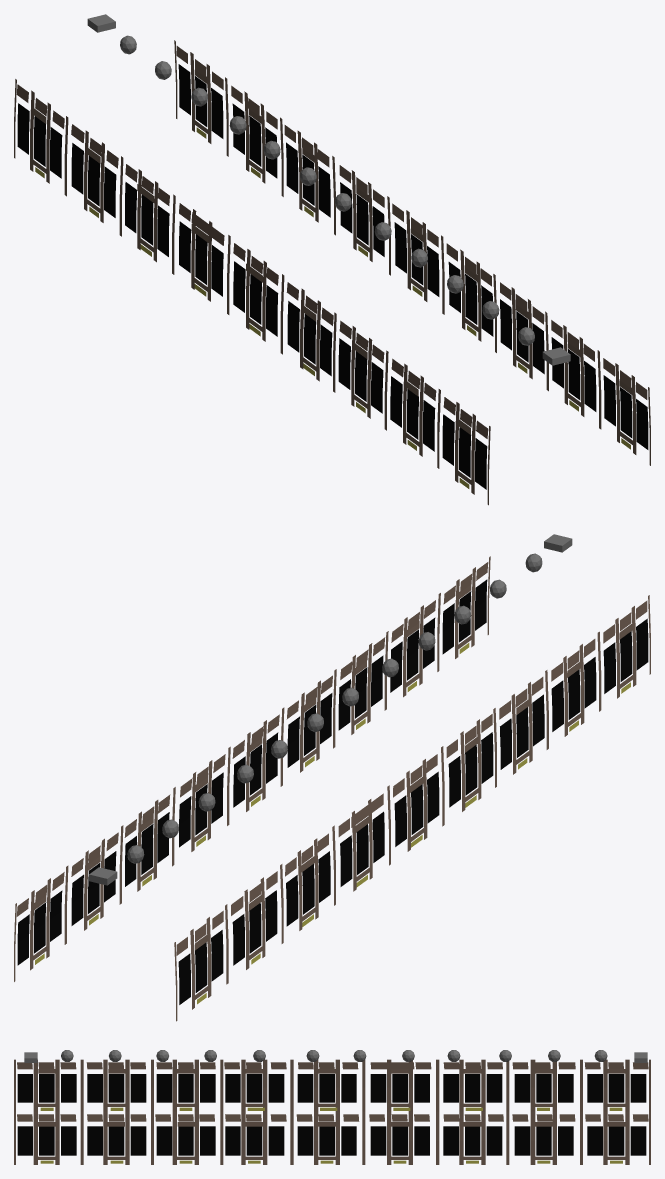
The model's file is lnwr-57ft-non-cor-third-doors.dae.
3 views of the same model, one above another, from view 1: azimuth 30°, elevation 25°; view 2: azimuth 150°, elevation 25°; view 3: azimuth 270°, elevation 25° (orthographic). The views are drawn at different scales.
Parts seen in each view (by area): view 1: no part large enough to name; view 2: no part large enough to name; view 3: Plane_1204, Plane_1222, Plane_1336, Plane_1349, Plane_1403, Plane_1433, Plane_1494, Plane_1525, Plane_1221, Plane_1335, Plane_1495, Plane_1209 (+90 smaller).
Boxes of the visible parts, x1,y1,x2,y2 form: Plane_1204: (297, 1126, 313, 1155); Plane_1222: (130, 1126, 146, 1155); Plane_1336: (268, 1126, 284, 1155); Plane_1349: (156, 1126, 172, 1155); Plane_1403: (486, 1126, 502, 1155); Plane_1433: (370, 1126, 386, 1155); Plane_1494: (630, 1126, 646, 1155); Plane_1525: (514, 1126, 530, 1155); Plane_1221: (108, 1126, 124, 1155); Plane_1335: (246, 1126, 262, 1155); Plane_1495: (608, 1126, 624, 1155); Plane_1209: (297, 1074, 313, 1102).
Size of the model in its own units: 1.94 by 9.85 by 1.49.
